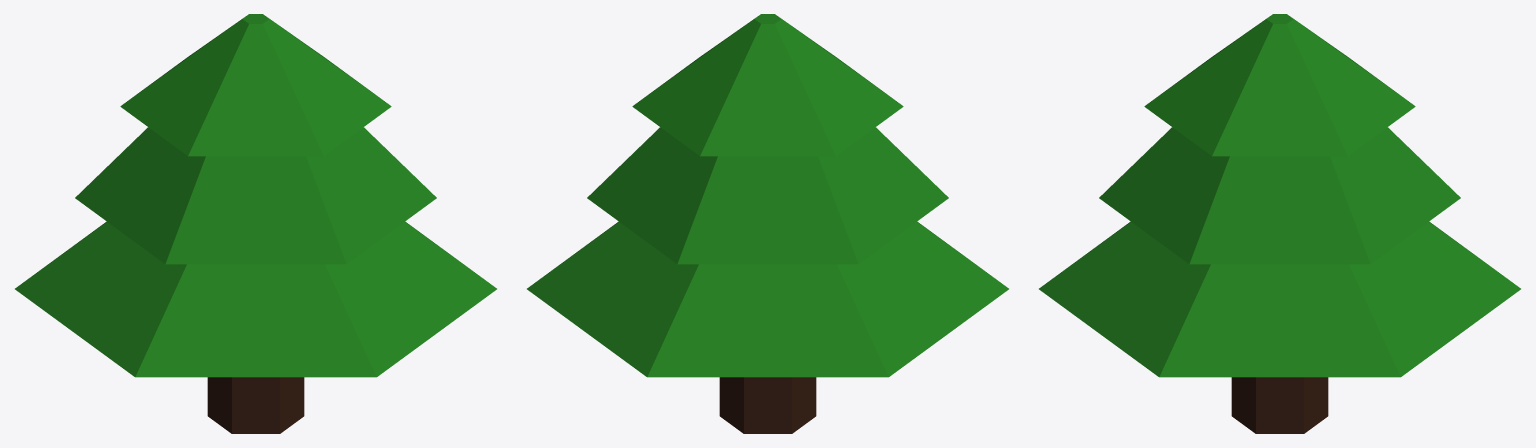
File: Tree.fbx
The picture shows the model from 3 angles, left to right: view 1: azimuth 30°, elevation 25°; view 2: azimuth 150°, elevation 25°; view 3: azimuth 270°, elevation 25°; orthographic projection.
Visible parts, largest first — view 1: Cylinder.001; view 2: Cylinder.001; view 3: Cylinder.001.
Part boxes in pixels (x1=…): Cylinder.001: x1=15, y1=14, x2=496, y2=433; Cylinder.001: x1=527, y1=14, x2=1008, y2=433; Cylinder.001: x1=1039, y1=14, x2=1520, y2=433.
Size of the model in its own units: 866 by 908 by 1000.
